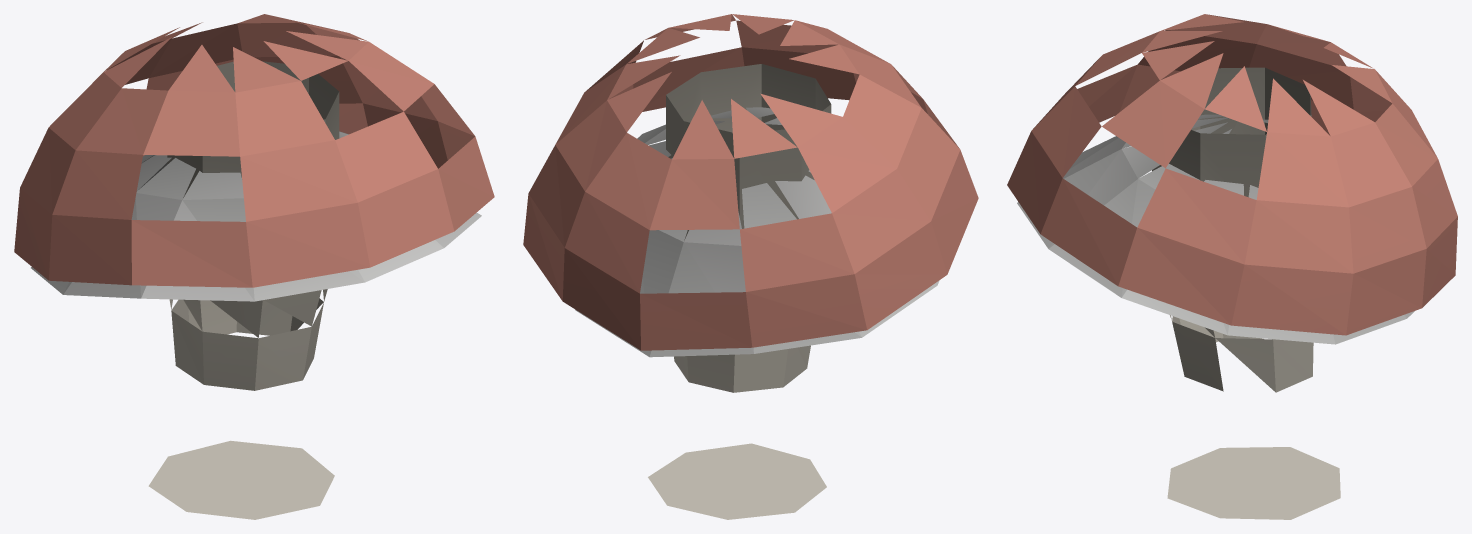
File: toadstool.lod.glb
3 renders of one model, left to right at view 1: azimuth 30°, elevation 25°; view 2: azimuth 150°, elevation 25°; view 3: azimuth 270°, elevation 25°, orthographic. The views are drawn at different scales.
Parts seen in each view (by area): view 1: toadstool.001; view 2: toadstool.001; view 3: toadstool.001.
Part boxes in pixels (box(x1,y1,x2,y2)): toadstool.001: box(14, 14, 494, 519); toadstool.001: box(523, 14, 978, 519); toadstool.001: box(1007, 14, 1457, 519).
Size of the model in its own units: 0.651 by 0.7 by 0.6463.
